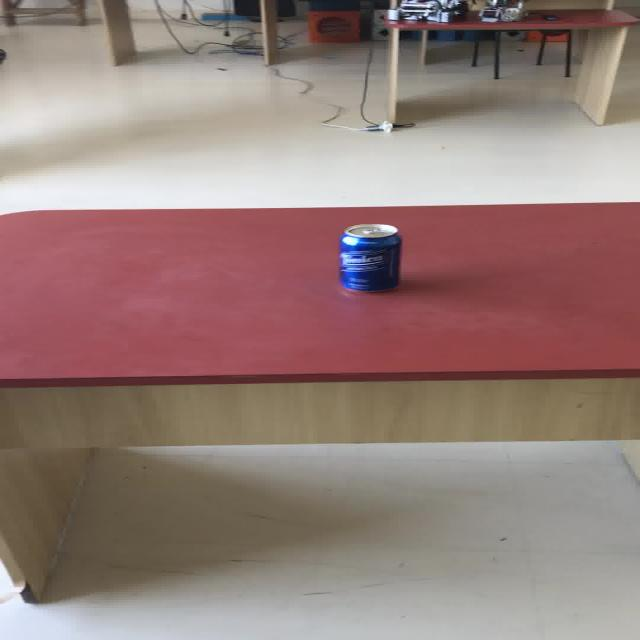tonic: (336, 223, 401, 292)
